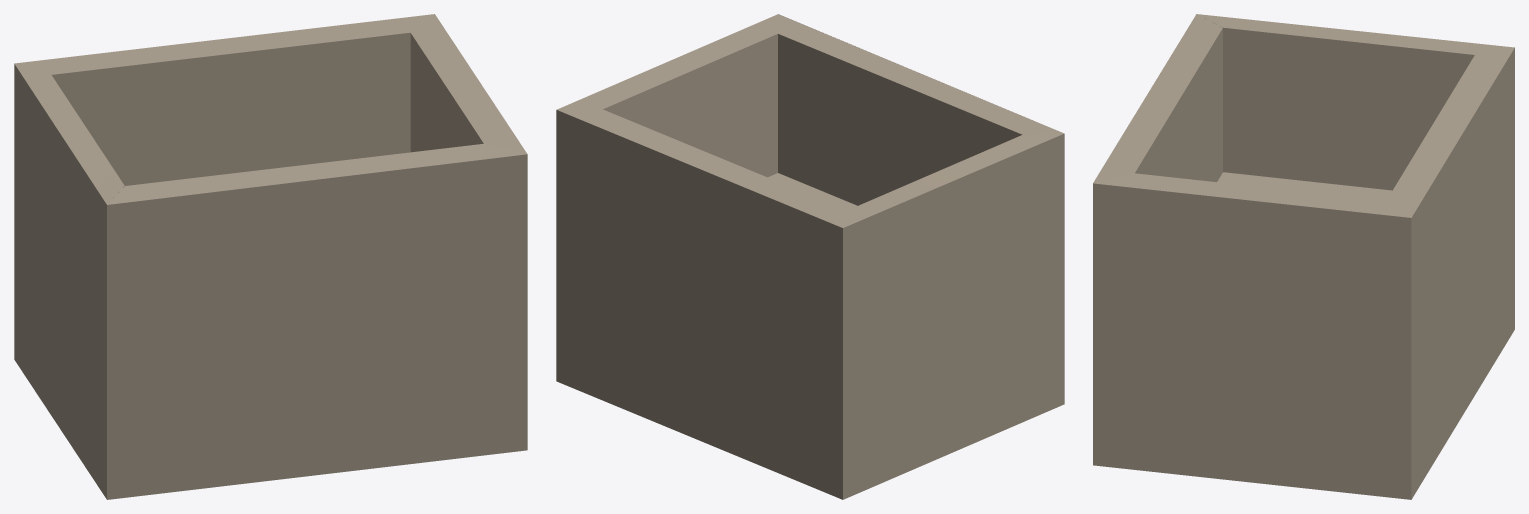
The model's file is MSH_QuestObject_cabinet_02.fbx.
The picture shows the model from 3 angles, left to right: view 1: azimuth 30°, elevation 25°; view 2: azimuth 150°, elevation 25°; view 3: azimuth 270°, elevation 25°; orthographic projection. The views are drawn at different scales.
Visible parts, largest first — view 1: MSH_QuestObject_cabinet_02; view 2: MSH_QuestObject_cabinet_02; view 3: MSH_QuestObject_cabinet_02.
Part boxes in pixels (box(x1,y1,x2,y2)): MSH_QuestObject_cabinet_02: box(14, 14, 527, 499); MSH_QuestObject_cabinet_02: box(556, 14, 1064, 499); MSH_QuestObject_cabinet_02: box(1093, 14, 1514, 499).
Size of the model in its own units: 0.7217 by 0.4633 by 0.628.
